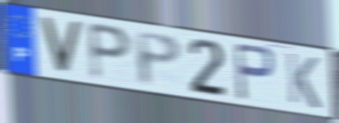2: (187, 37, 229, 100)
K: (284, 50, 323, 112)
P: (86, 19, 135, 84), (133, 29, 184, 89), (232, 41, 278, 104)
V: (37, 14, 85, 78)
